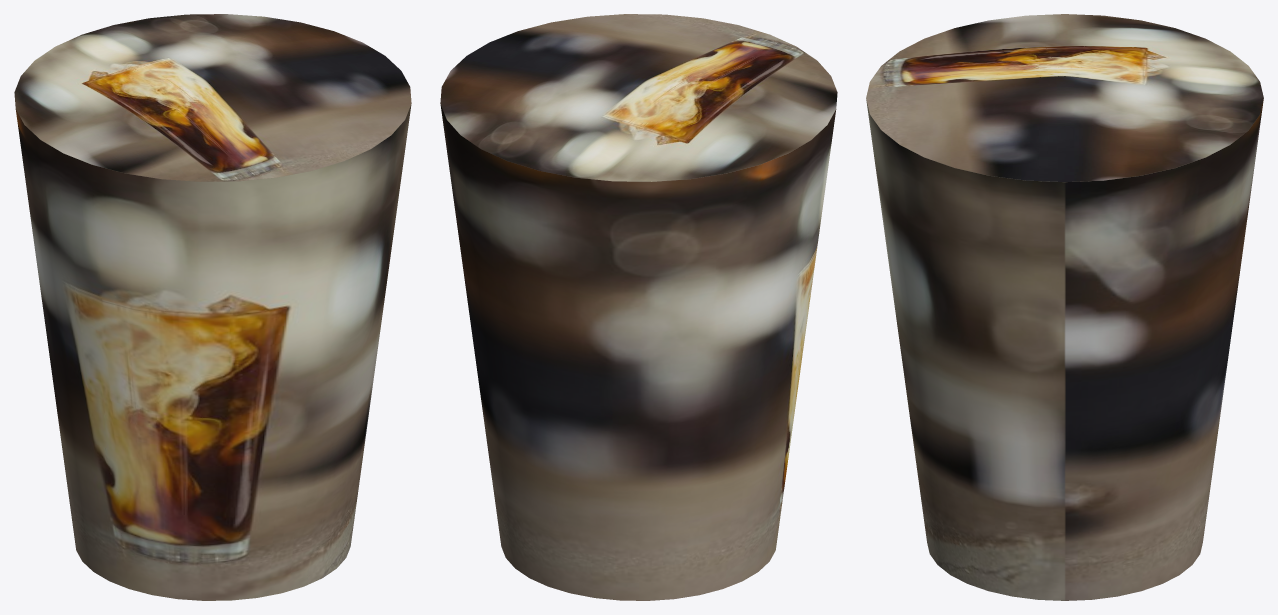
The model's file is p15-coffee.glb.
The picture shows the model from 3 angles, left to right: view 1: azimuth 30°, elevation 25°; view 2: azimuth 150°, elevation 25°; view 3: azimuth 270°, elevation 25°; orthographic projection.
Size of the model in its own units: 1.5 by 1.93 by 1.5.
1 material, 1 textured.
